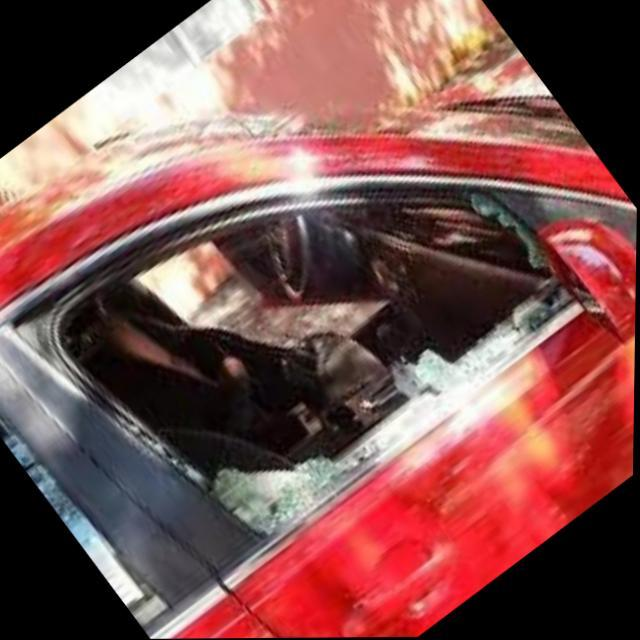glass shatter: (13, 180, 586, 538)
